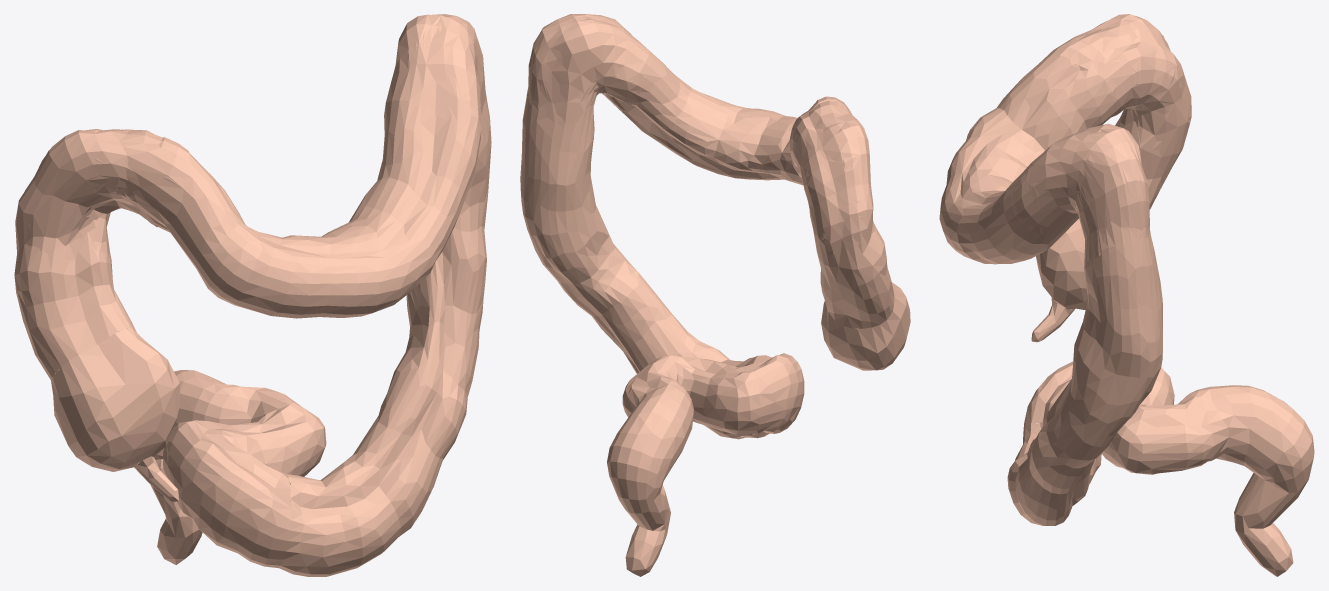
The model's file is SBU_F_Intestine_Large_0.4.glb.
3 views of the same model, side by side, from view 1: azimuth 30°, elevation 25°; view 2: azimuth 150°, elevation 25°; view 3: azimuth 270°, elevation 25° (orthographic). The views are drawn at different scales.
Visible parts, largest first — view 1: VH_F_transverse_colon, VH_F_descending_colon, VH_F_sigmoid_colon, VH_F_ascending_colon, VH_F_caecum, VH_F_hepatic_flexure_of_colon, VH_F_rectum, VH_F_splenic_flexure_of_colon, VH_F_vermiform_appendix; view 2: VH_F_descending_colon, VH_F_transverse_colon, VH_F_ascending_colon, VH_F_rectum, VH_F_sigmoid_colon, VH_F_caecum, VH_F_hepatic_flexure_of_colon, VH_F_splenic_flexure_of_colon; view 3: VH_F_descending_colon, VH_F_transverse_colon, VH_F_rectum, VH_F_sigmoid_colon, VH_F_ascending_colon, VH_F_hepatic_flexure_of_colon, VH_F_caecum, VH_F_splenic_flexure_of_colon, VH_F_vermiform_appendix.
Boxes of the visible parts, <box> form: VH_F_transverse_colon: <box>78,14,481,318</box>; VH_F_descending_colon: <box>279,14,491,576</box>; VH_F_sigmoid_colon: <box>162,385,326,568</box>; VH_F_ascending_colon: <box>14,130,136,379</box>; VH_F_caecum: <box>51,327,179,471</box>; VH_F_hepatic_flexure_of_colon: <box>17,129,189,260</box>; VH_F_rectum: <box>151,370,233,564</box>; VH_F_splenic_flexure_of_colon: <box>384,14,490,156</box>; VH_F_vermiform_appendix: <box>134,456,178,502</box>; VH_F_descending_colon: <box>520,14,745,439</box>; VH_F_transverse_colon: <box>571,14,863,185</box>; VH_F_ascending_colon: <box>801,125,894,328</box>; VH_F_rectum: <box>607,379,693,576</box>; VH_F_sigmoid_colon: <box>623,353,804,438</box>; VH_F_caecum: <box>821,282,910,370</box>; VH_F_hepatic_flexure_of_colon: <box>789,96,876,255</box>; VH_F_splenic_flexure_of_colon: <box>526,15,650,142</box>; VH_F_descending_colon: <box>1007,128,1162,525</box>; VH_F_transverse_colon: <box>939,14,1165,264</box>; VH_F_rectum: <box>1198,385,1314,576</box>; VH_F_sigmoid_colon: <box>1023,361,1202,474</box>; VH_F_ascending_colon: <box>1115,15,1191,209</box>; VH_F_hepatic_flexure_of_colon: <box>1051,18,1190,150</box>; VH_F_caecum: <box>1036,218,1087,309</box>; VH_F_splenic_flexure_of_colon: <box>1011,127,1150,262</box>; VH_F_vermiform_appendix: <box>1031,297,1074,342</box>.
Bounding box in the file's own units: 0.2433 × 0.2958 × 0.1935.
